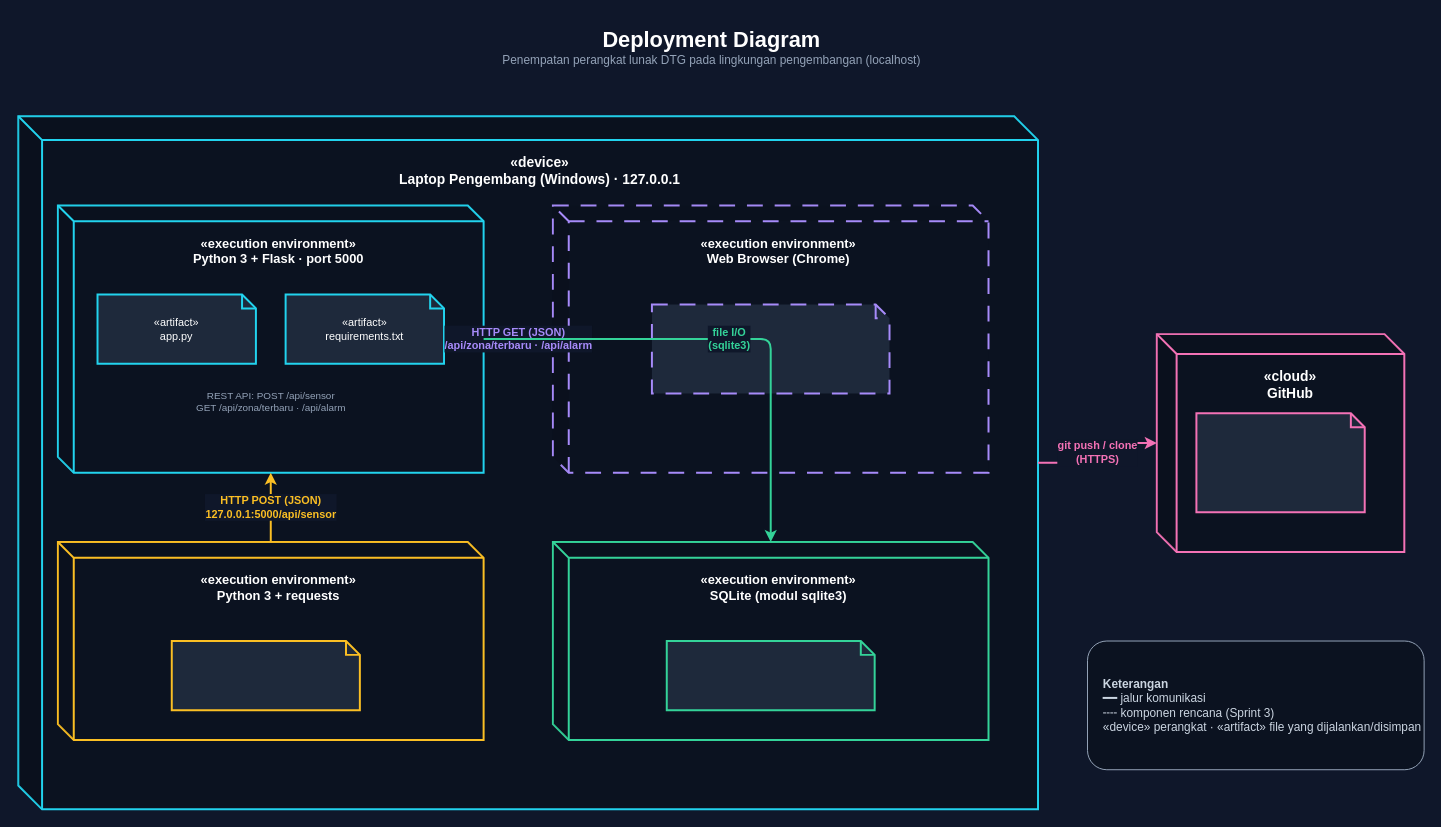
The diagram is 1441 pixels wide and 827 high, and some of its shapes have lost their labels. The shapes that lost their labels are listed below. From the top down, each one's centre as x and y in pixels, then its label:
At (770,348): "«artifact» Dashboard Web HTML + JavaScript (rencana)".
At (1280,462): "«artifact» Repository Digital-Twin-RPL kode + dokumen".
At (265,675): "«artifact» simulator.py".
At (770,675): "«artifact» waretwin.db".
